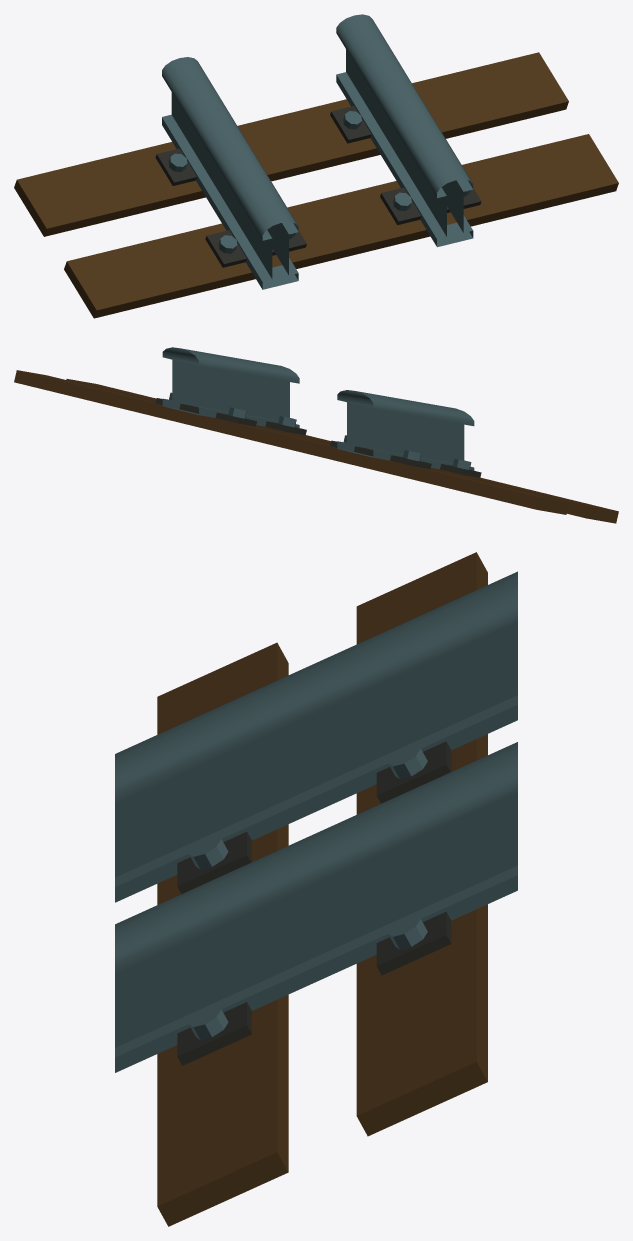
File: CA_063_064_065_066_rails_slope.glb
3 renders of one model, top to bottom at view 1: azimuth 30°, elevation 25°; view 2: azimuth 150°, elevation 25°; view 3: azimuth 270°, elevation 25°, orthographic. The views are drawn at different scales.
Visible parts, largest first — view 1: wooden_planks, rails; view 2: rails, wooden_planks; view 3: rails, wooden_planks.
Part boxes in pixels (box(x1,y1,x2,y2)): wooden_planks: box(14, 52, 618, 318); rails: box(162, 14, 473, 289); rails: box(162, 347, 474, 470); wooden_planks: box(14, 370, 618, 523); rails: box(115, 571, 517, 1072); wooden_planks: box(157, 552, 487, 1226).
Size of the model in its own units: 2.24 by 0.6338 by 0.75.
